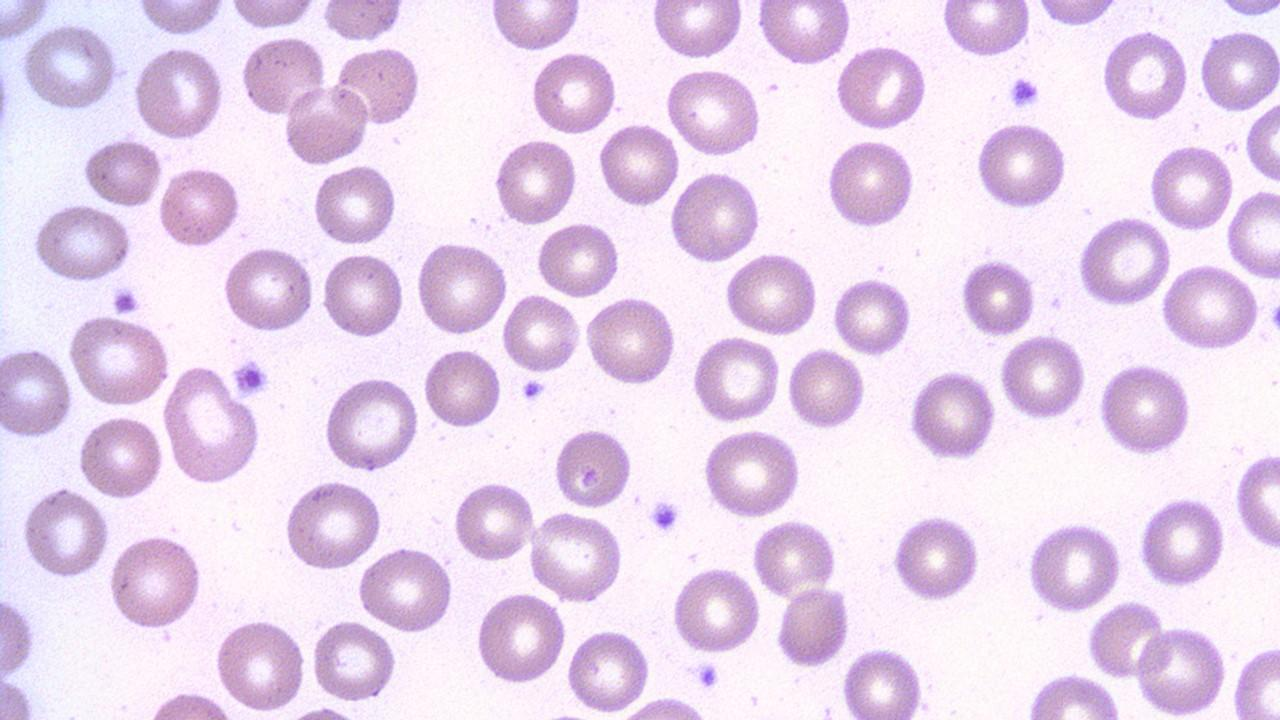Platelets: (231, 357, 270, 396), (648, 495, 683, 536), (1007, 75, 1043, 111), (109, 284, 142, 316), (1264, 293, 1280, 351), (694, 659, 720, 690), (519, 377, 547, 402)
RBC: (160, 364, 264, 486), (64, 314, 174, 408), (320, 374, 422, 475), (107, 530, 205, 634), (280, 476, 382, 574), (1096, 360, 1196, 458), (1022, 518, 1124, 614), (211, 615, 309, 714), (700, 427, 804, 520), (1132, 620, 1232, 716), (526, 509, 626, 604), (414, 237, 508, 338), (666, 168, 762, 266), (472, 588, 568, 686), (663, 65, 764, 158), (582, 294, 680, 388), (1157, 264, 1261, 352), (822, 136, 916, 233), (132, 43, 224, 142), (1076, 214, 1172, 308), (888, 510, 984, 604), (1137, 492, 1229, 590), (20, 483, 111, 582), (19, 22, 119, 112), (354, 546, 455, 635), (689, 333, 783, 427), (974, 118, 1069, 211), (906, 366, 998, 462), (221, 243, 317, 334), (832, 43, 929, 133), (1100, 27, 1190, 124), (28, 203, 136, 283), (670, 562, 762, 655), (723, 249, 820, 337), (997, 331, 1087, 424), (564, 624, 654, 716), (76, 410, 166, 502), (528, 48, 620, 137), (1147, 141, 1235, 234), (319, 249, 406, 342), (239, 32, 328, 122), (334, 42, 423, 131), (492, 137, 580, 227), (310, 616, 399, 704), (156, 162, 244, 251), (311, 161, 399, 249), (281, 81, 369, 168), (596, 119, 680, 210), (0, 342, 75, 442), (451, 478, 536, 565), (1197, 26, 1279, 116), (500, 290, 584, 376), (784, 344, 866, 432), (830, 273, 914, 358), (751, 517, 839, 598), (422, 343, 503, 431), (1085, 596, 1169, 680), (535, 218, 621, 300), (552, 425, 634, 510), (836, 644, 928, 718), (958, 254, 1039, 338), (773, 584, 851, 670), (754, 1, 852, 69), (80, 135, 164, 209), (648, 1, 746, 62), (939, 1, 1034, 61), (1225, 186, 1279, 281), (1232, 446, 1280, 552), (488, 1, 582, 55), (1022, 672, 1125, 718), (1229, 640, 1279, 718), (318, 1, 408, 44), (0, 590, 38, 680), (134, 1, 226, 38), (1244, 95, 1280, 187), (1027, 0, 1129, 28), (226, 1, 320, 31), (1, 1, 54, 43)
WBC: (316, 1, 410, 40)
